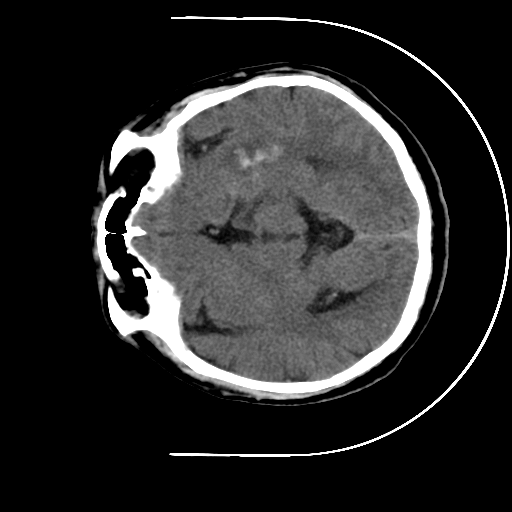a: (217, 131, 304, 181)
